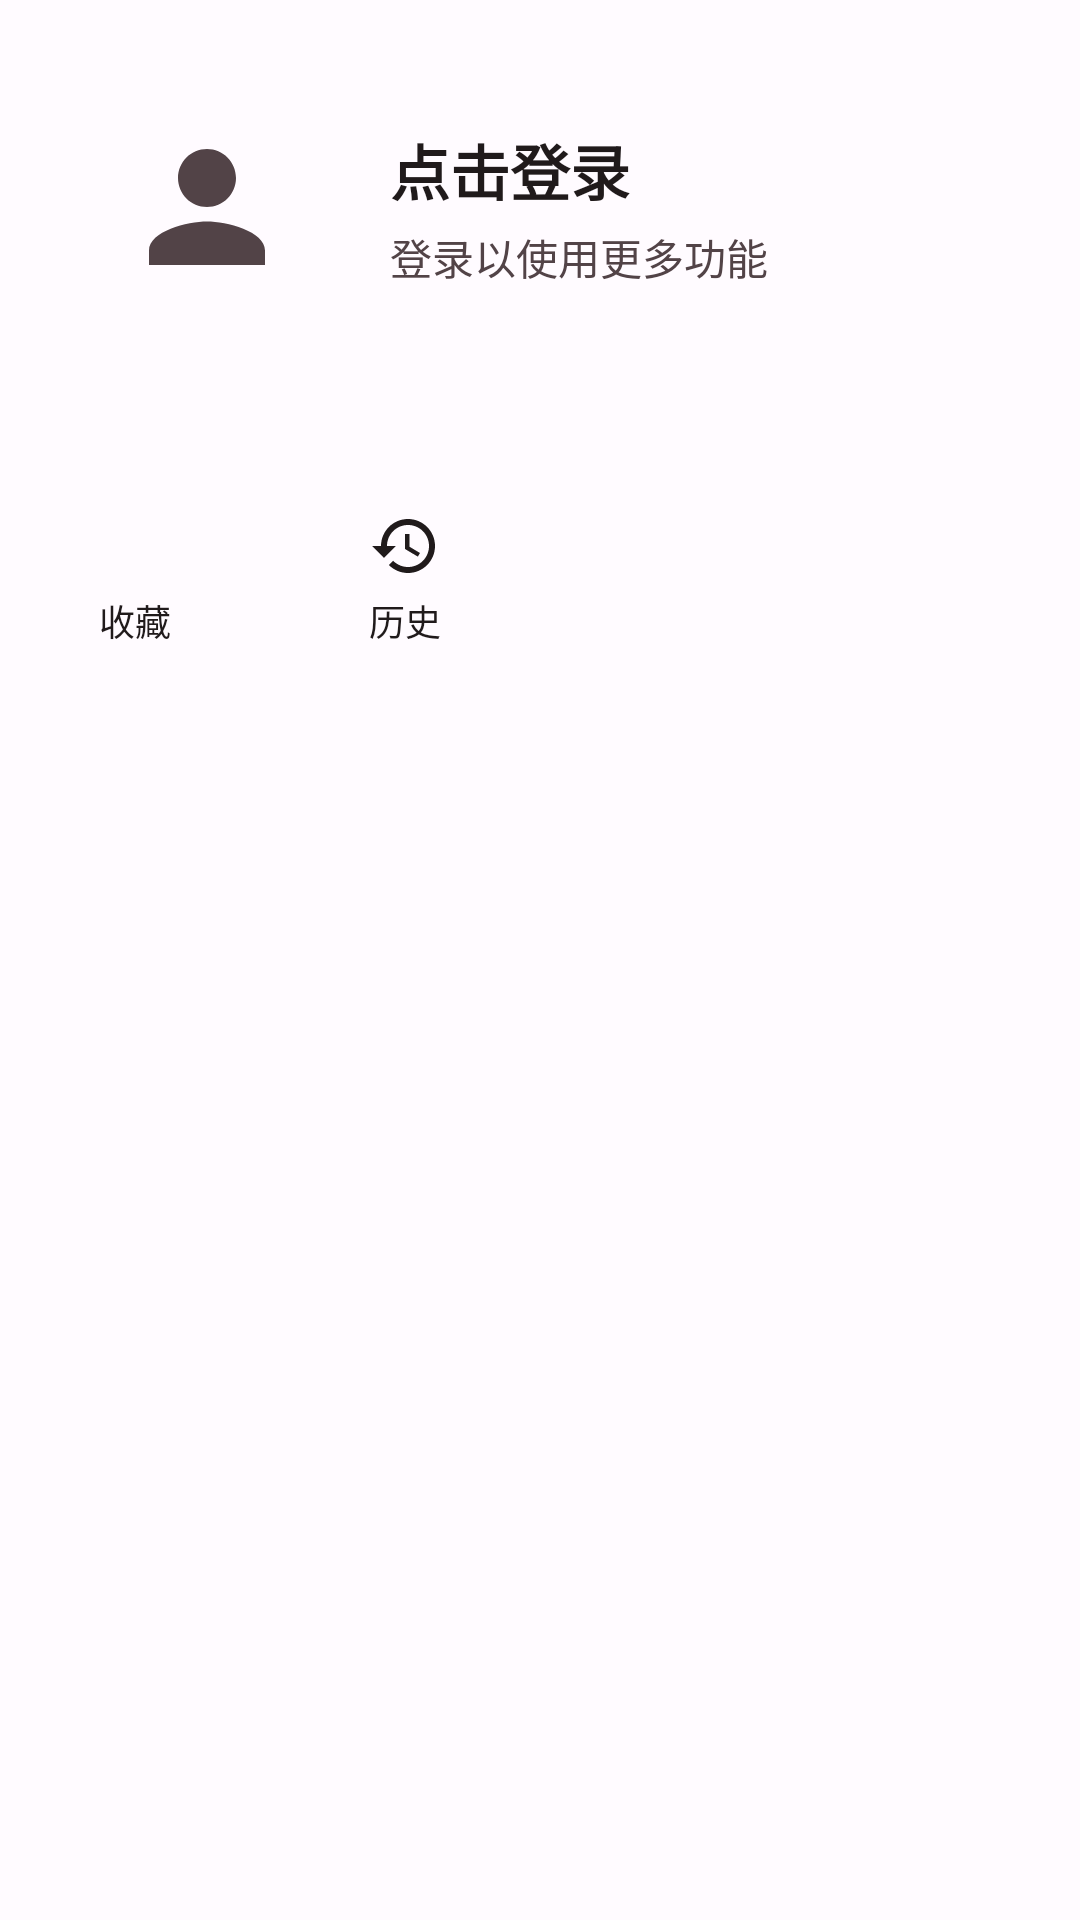

Where to tap for icons on this 1080 x 1920 app screen, as point (x, y):
person: point (207, 207)
